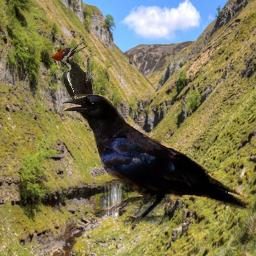Crow: (63, 94, 250, 224)
Woodpecker: (49, 41, 98, 131)
